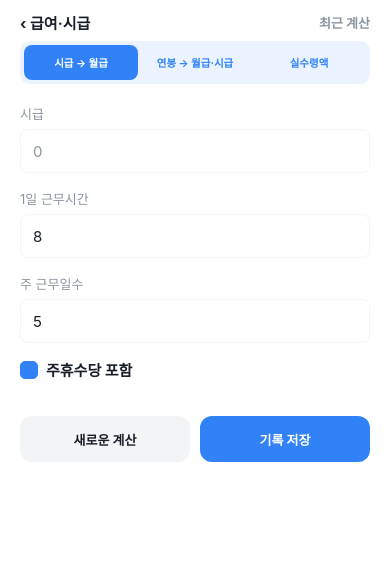
Test: SalaryScreen › shows an approximate net pay with an accuracy disclaimer
Click the element with test id "mode-net-pay" at (309, 64), box top-left (290, 57), bottom-right (328, 70)
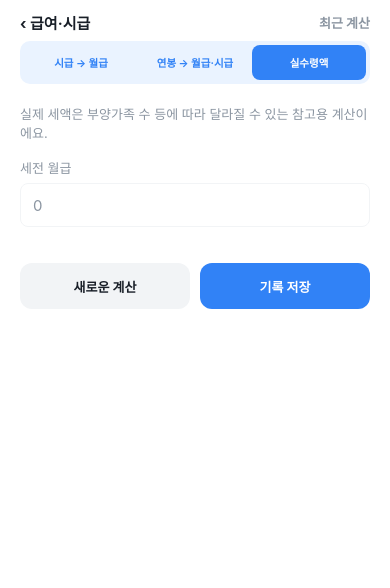
Type "3000000" into the field with test id "input-monthly-gross-pay" at (195, 205), box top-left (20, 183), bottom-right (370, 227)
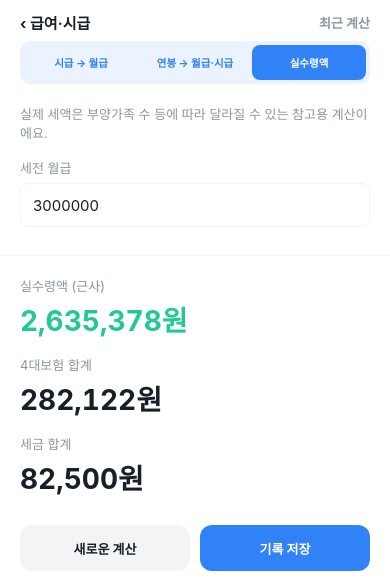
Result: the text "실제 세액은 부양가족 수 등에 따라 달라질 수 있는 참고용 계산이에요." is shown at top-left (20, 104), bottom-right (370, 142)
Result: the element with test id "net-pay-result" is shown at top-left (0, 255), bottom-right (389, 505)
